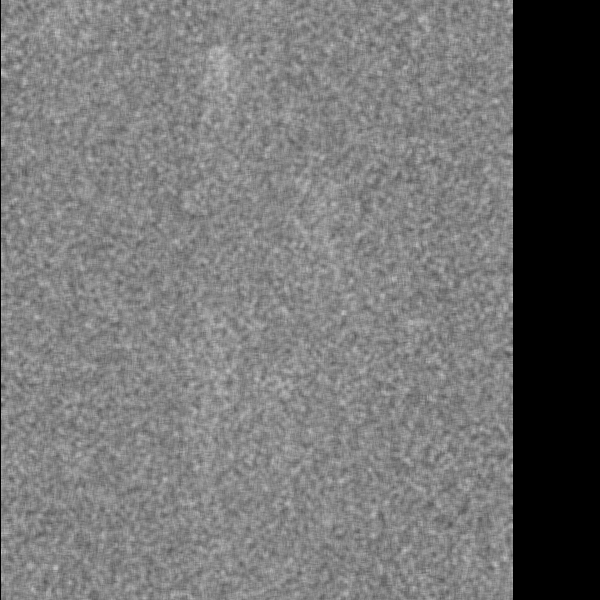spark: (204, 42, 231, 105)
